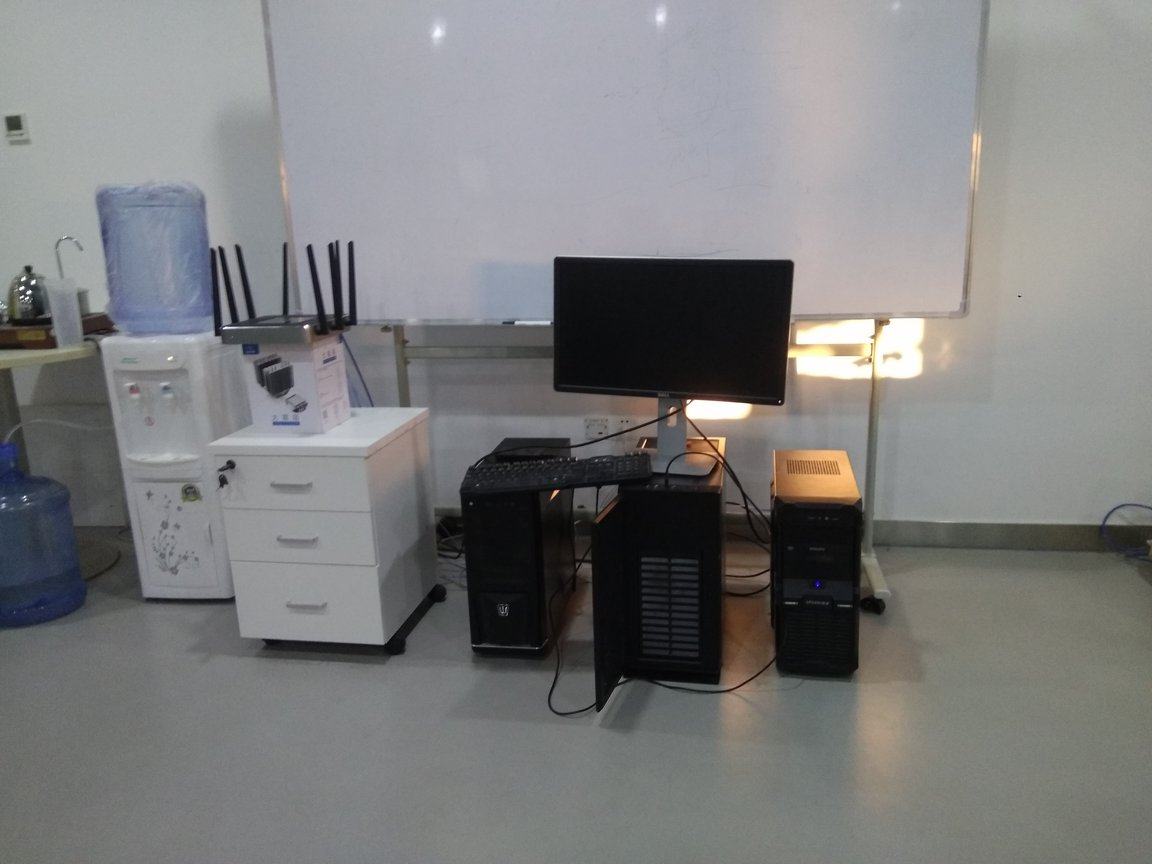computer: (594, 436, 728, 715), (462, 435, 581, 672), (773, 452, 867, 682)
drawer chest: (218, 405, 443, 664)
monitor: (553, 253, 793, 481)
scuttlebutt: (93, 178, 218, 328), (1, 451, 85, 637)
water dispenser: (104, 327, 246, 608)
